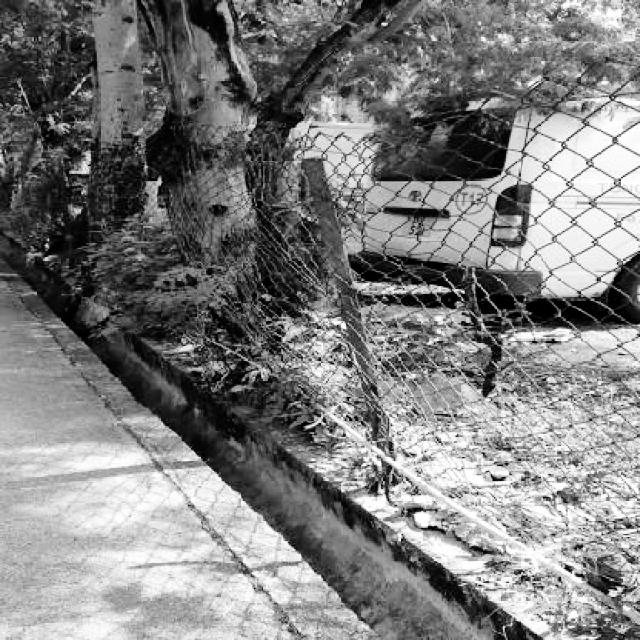fences: (255, 153, 609, 487)
